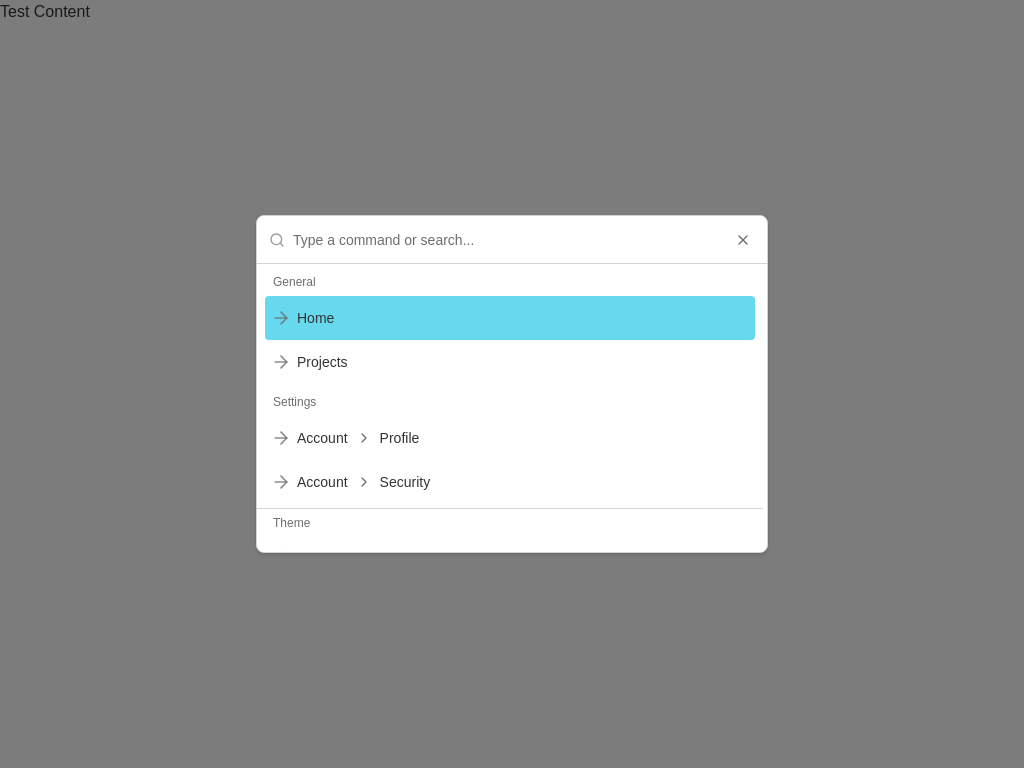
Test: CommandMenu › should show no results message when no matches found
Type "nonexistentcommand12345" into the dropdown with placeholder "Type a command or search..." at (524, 240), box [293,216,755,264]
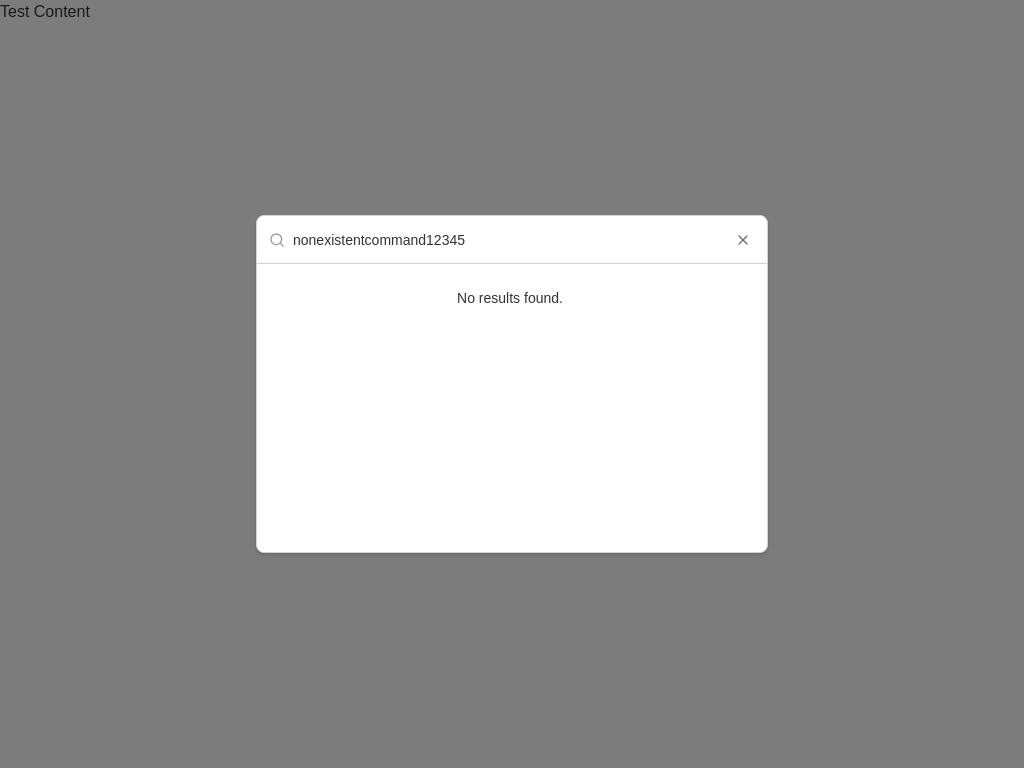
Expected: the text "No results found." is shown, [457,290,563,306]
